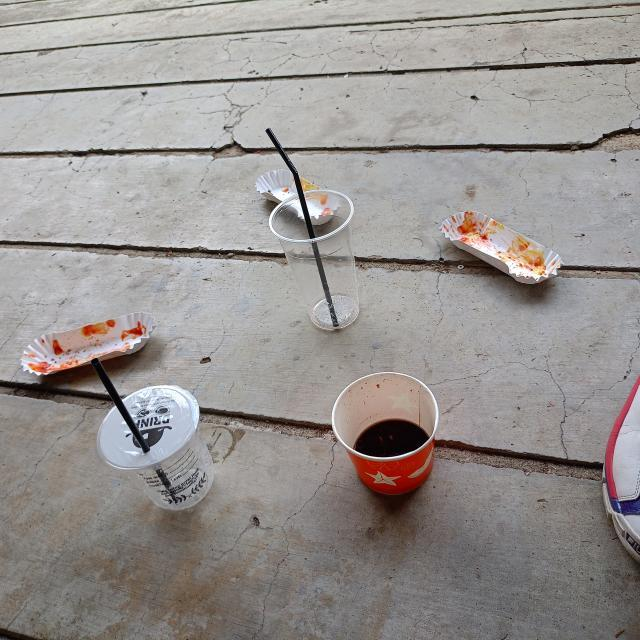recyclable waste: (90, 379, 224, 517), (322, 362, 450, 504), (260, 182, 367, 337), (429, 204, 568, 291), (15, 305, 162, 384), (249, 161, 346, 230)
